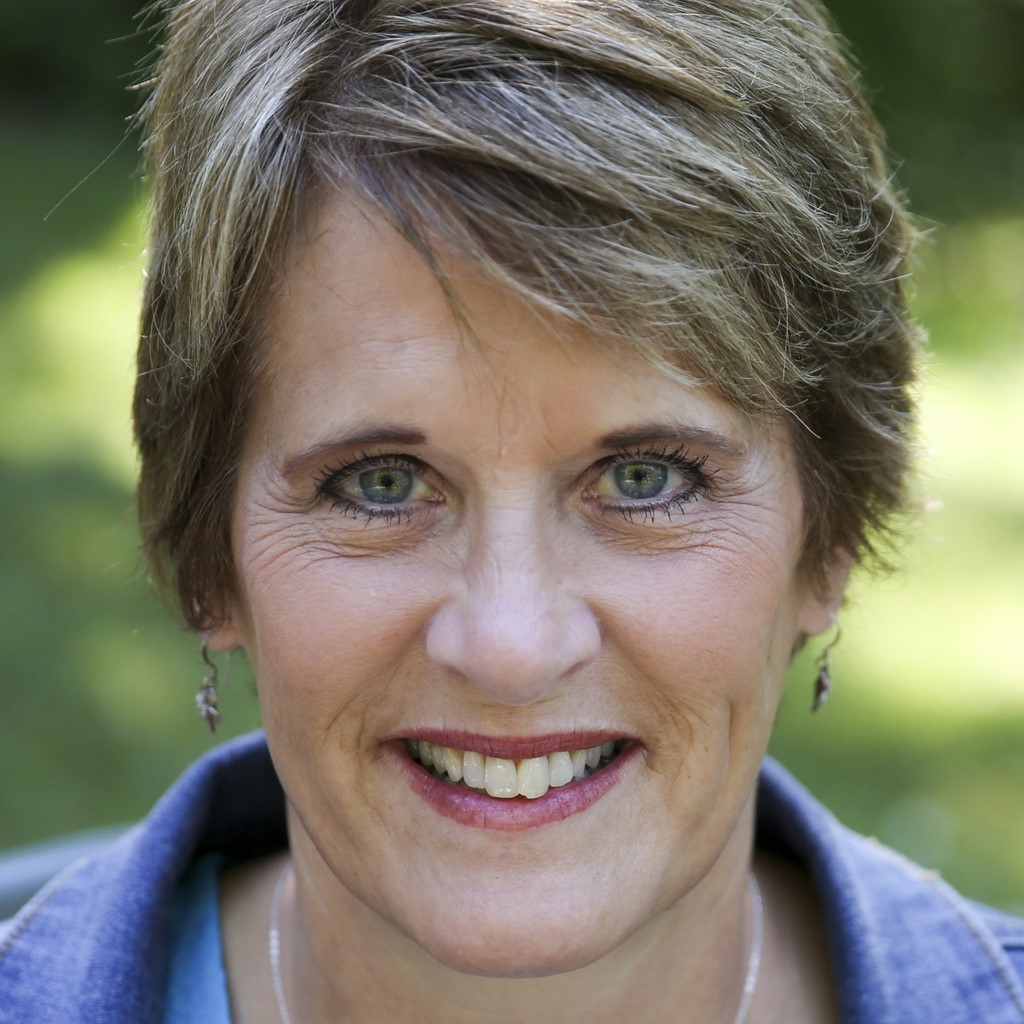sin_mascara: (205, 82, 851, 978)
